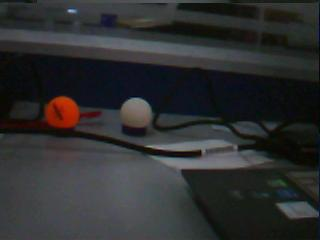oball: (45, 95, 78, 130)
